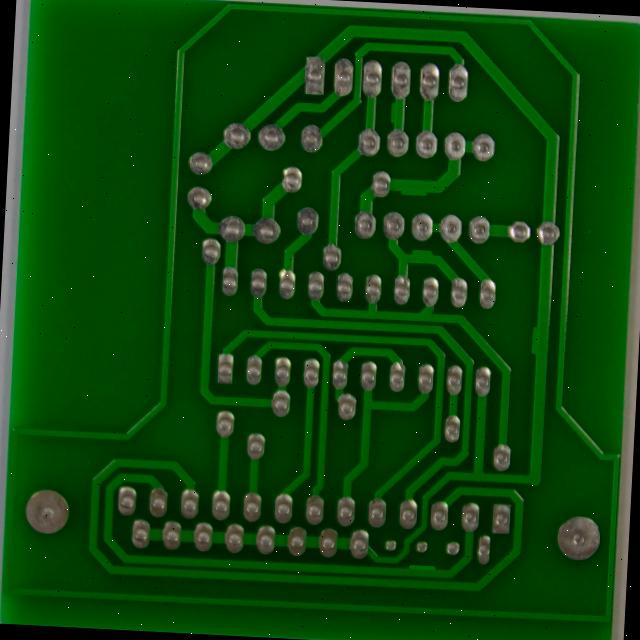spur: (355, 198, 398, 231), (505, 371, 533, 414), (368, 281, 407, 306), (345, 110, 371, 144)
